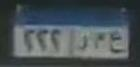2: (50, 27, 64, 53), (21, 28, 35, 54), (36, 26, 49, 53)
ain: (108, 29, 127, 56)
meem: (92, 31, 107, 52)
raa: (75, 32, 89, 53)
